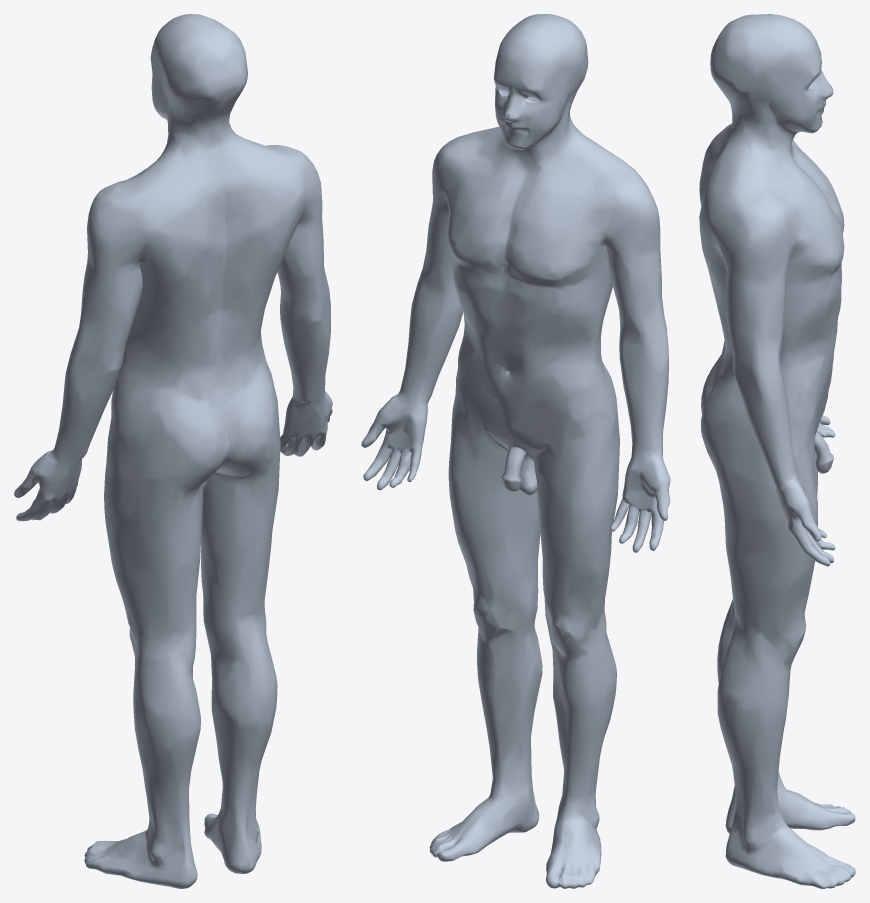
File: context.glb
The picture shows the model from 3 angles, left to right: view 1: azimuth 30°, elevation 25°; view 2: azimuth 150°, elevation 25°; view 3: azimuth 270°, elevation 25°; orthographic projection. The views are drawn at different scales.
Visible parts, largest first — view 1: FJ2810; view 2: FJ2810; view 3: FJ2810.
Boxes of the visible parts, x1,y1,x2,y2 form: FJ2810: (14, 14, 332, 888); FJ2810: (361, 14, 670, 888); FJ2810: (699, 14, 855, 888).
Bounding box in the file's own units: 66.71 × 172 × 29.2.
